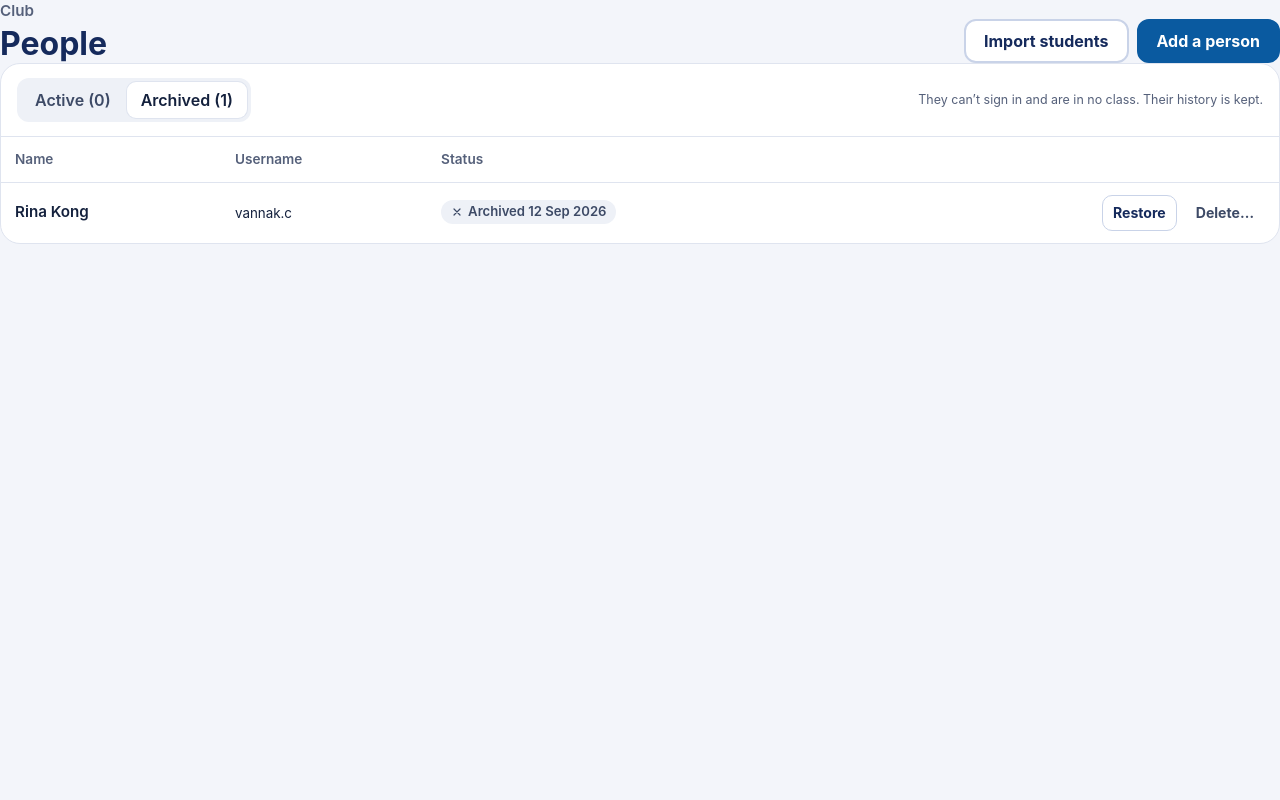
Test: Restore and Delete › explains why a used teacher’s account stays, with nothing to delete
Click the button with aria-label "Delete Rina Kong" at (1225, 213), box [1185,195,1265,231]
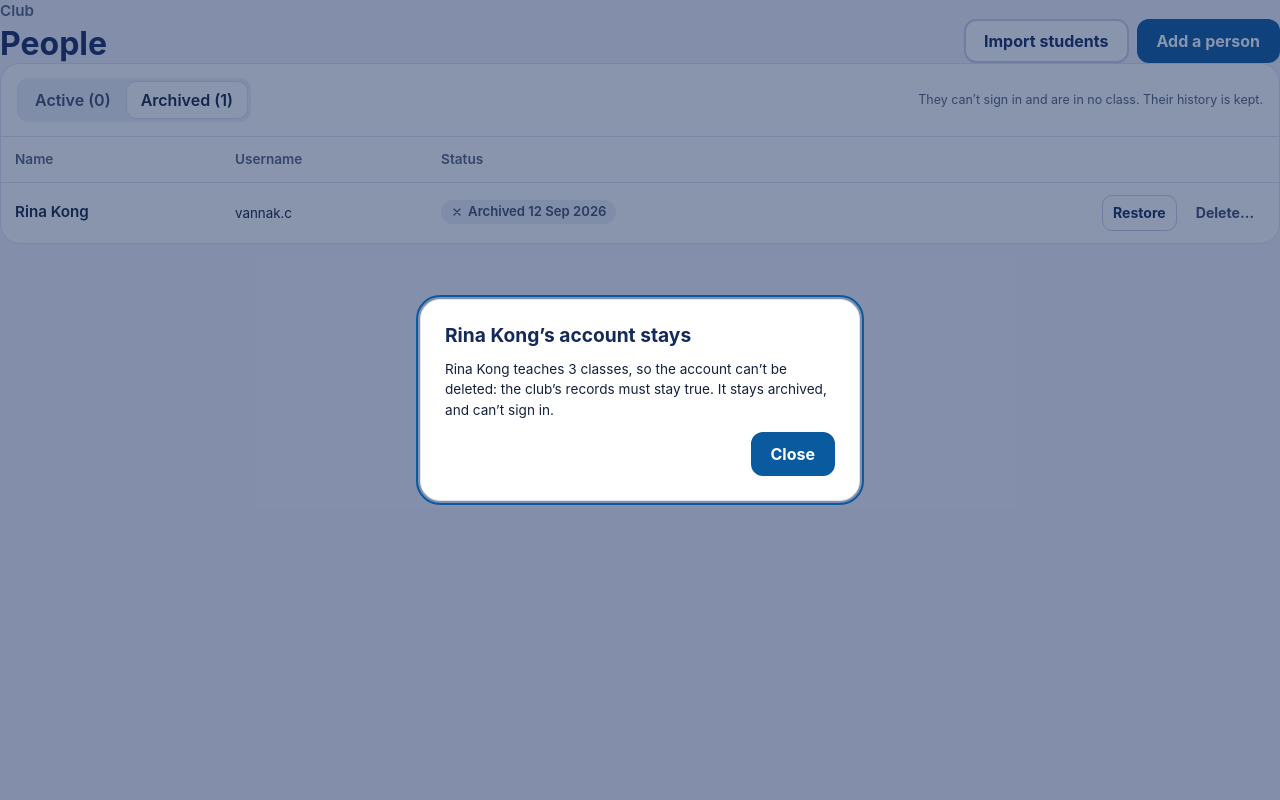
Result: the dialog shows "Rina Kong teaches 3 classes" at [445,361,629,377]
Result: the button "Close" is shown at [750,432,835,476]
